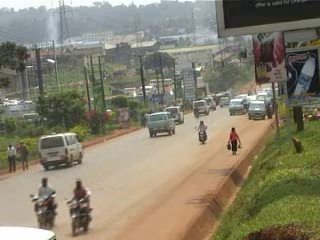Car: (215, 96, 231, 108)
Motorcycle: (65, 175, 95, 235), (28, 176, 60, 229), (192, 119, 209, 147), (190, 104, 201, 118)
